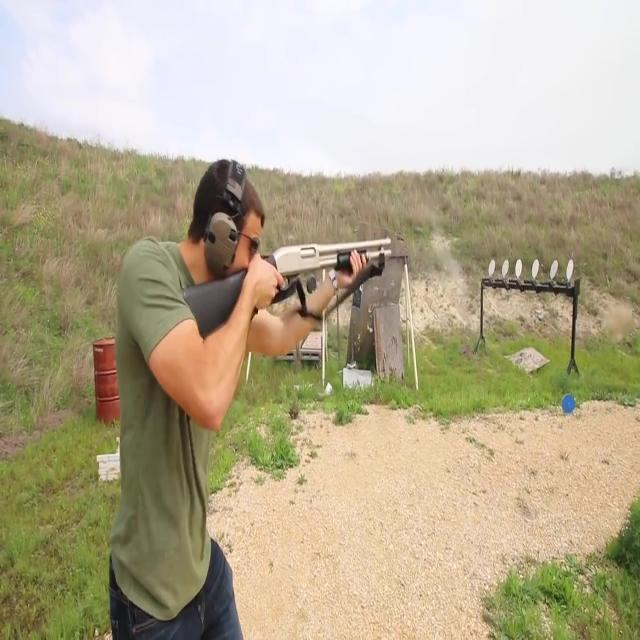Weapon: (159, 225, 447, 375)
